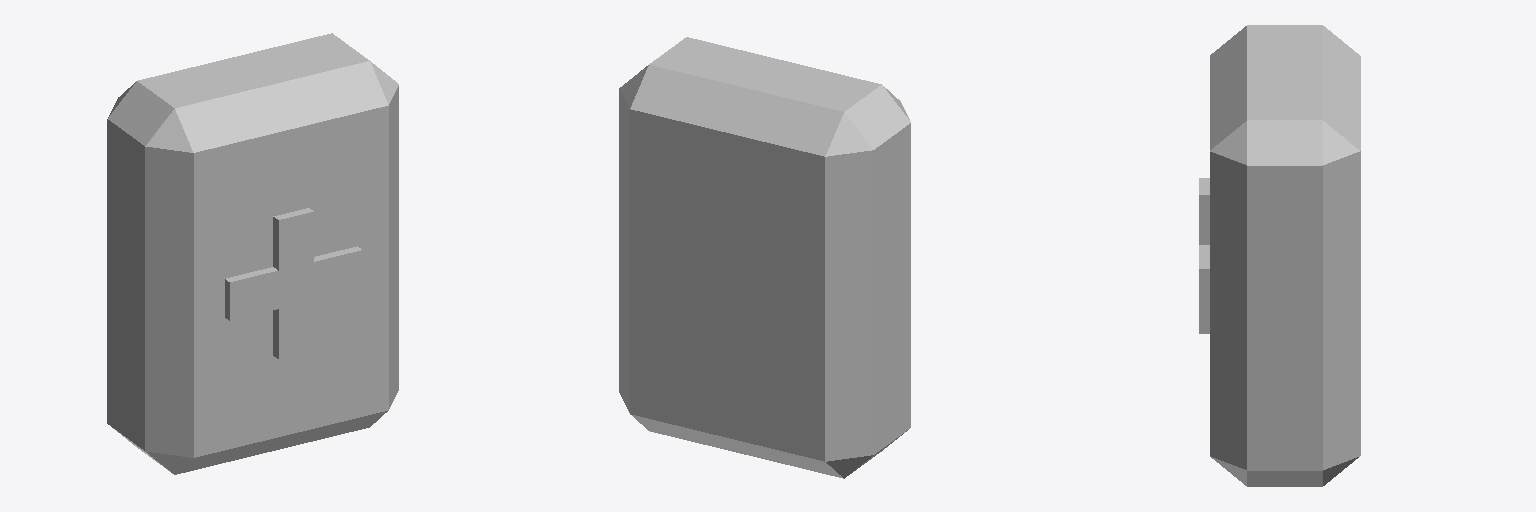
The model's file is healthpack.obj.
3 views of the same model, side by side, from view 1: azimuth 30°, elevation 25°; view 2: azimuth 150°, elevation 25°; view 3: azimuth 270°, elevation 25° (orthographic).
Visible parts, largest first — view 1: polySurface1; view 2: polySurface1; view 3: polySurface1.
Boxes of the visible parts, <box> form: polySurface1: <box>107,33,398,474</box>; polySurface1: <box>619,37,910,478</box>; polySurface1: <box>1199,25,1360,486</box>.
Size of the model in its own units: 1.08 by 1.49 by 0.5922.